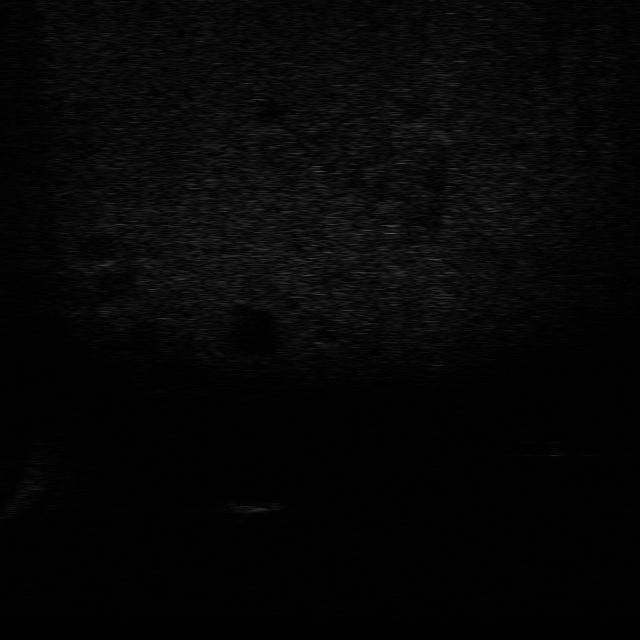ball: (523, 431, 575, 463)
square cage: (224, 493, 290, 526)
